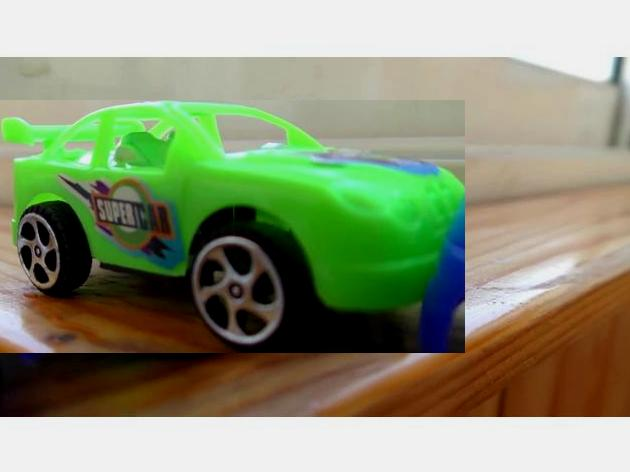toy-car: (0, 100, 465, 353)
